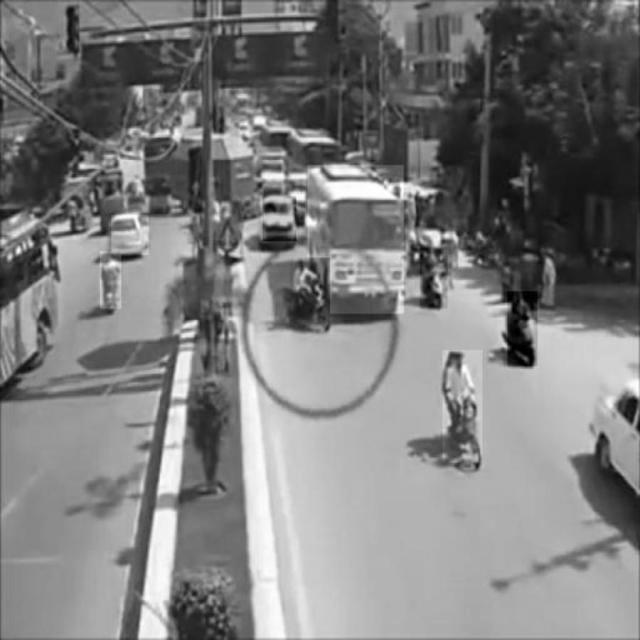vehicle: (308, 165, 404, 313), (442, 350, 482, 462), (290, 258, 331, 335), (508, 291, 538, 365), (421, 248, 448, 309), (263, 197, 297, 242), (112, 216, 149, 256), (101, 252, 121, 309)
